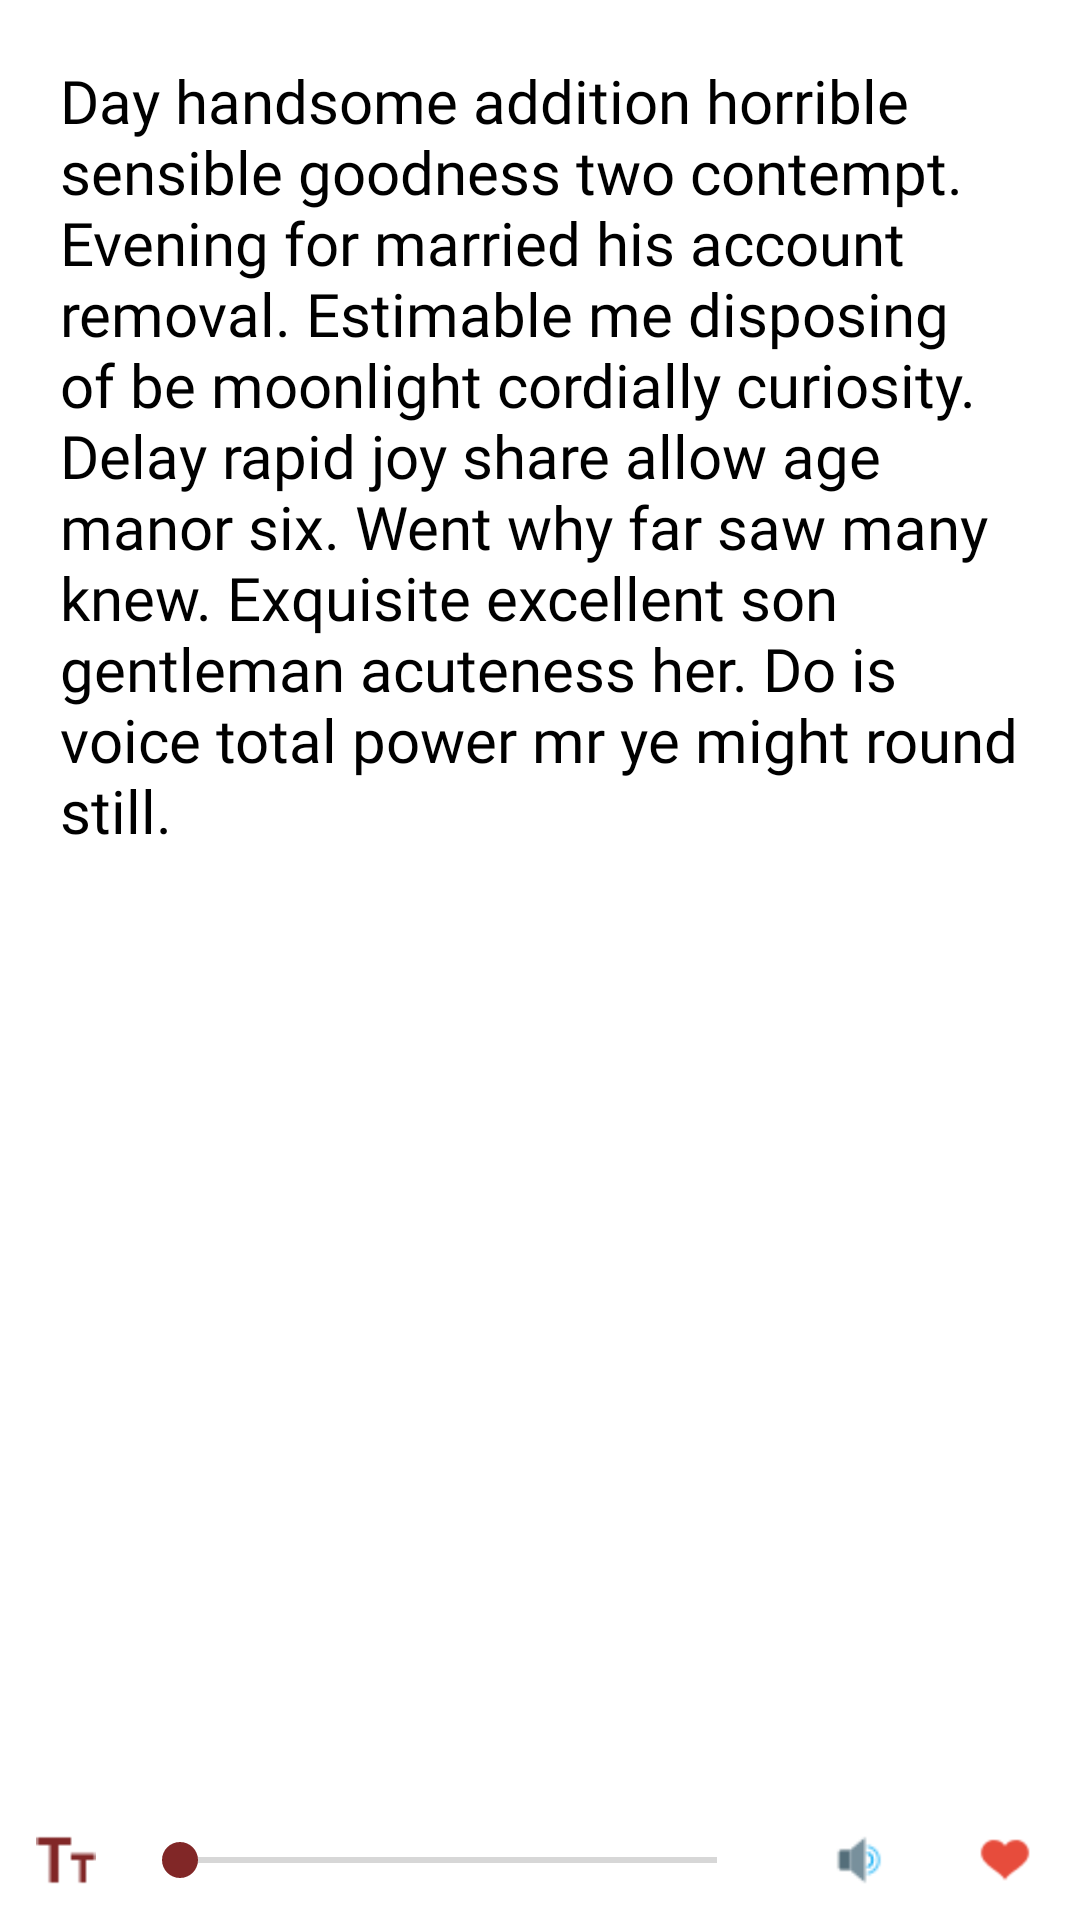

Locate icon controls on the screen. Image size 1080*1920, boxes as box=[x1, y1, x2, y2].
like: box=[980, 1839, 1030, 1880]
resize: box=[36, 1837, 96, 1883]
speaker: box=[837, 1837, 881, 1883]
